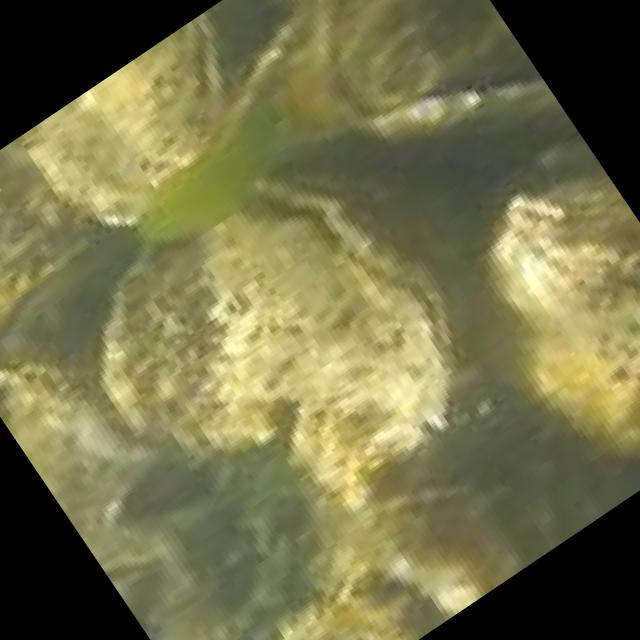Oyster- Indeterminate: (381, 424, 640, 609), (293, 398, 541, 509)
Oyster-Closed: (107, 166, 493, 423), (2, 3, 238, 225), (481, 173, 640, 454), (356, 38, 573, 144), (0, 211, 137, 365)
